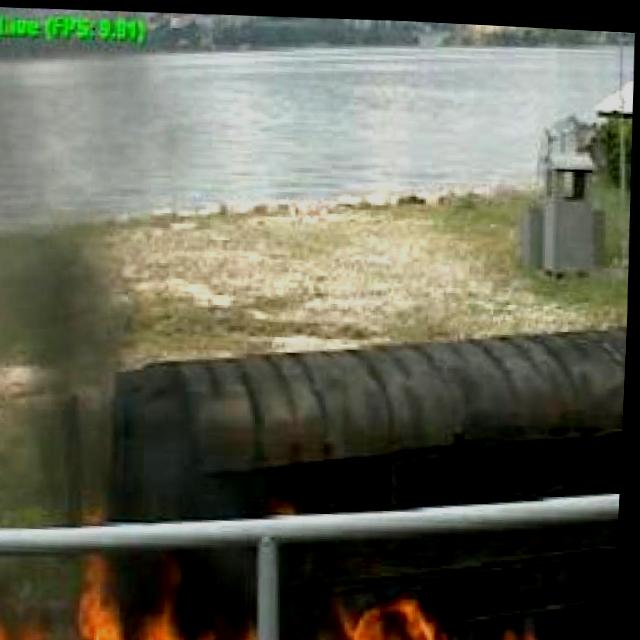Fire: (82, 543, 262, 640), (344, 590, 555, 640), (0, 579, 67, 640)
Smoke: (0, 46, 201, 497)
